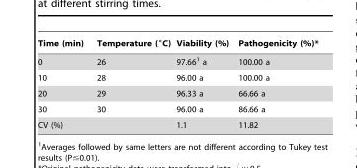table: (37, 37, 317, 129)
table column: (232, 37, 317, 129), (89, 37, 172, 129), (172, 37, 232, 129), (37, 37, 89, 129)
table column header: (37, 37, 317, 52)
table row: (37, 52, 317, 69), (37, 69, 317, 85), (37, 85, 317, 101), (37, 37, 317, 52), (37, 101, 317, 116), (37, 116, 317, 129)
